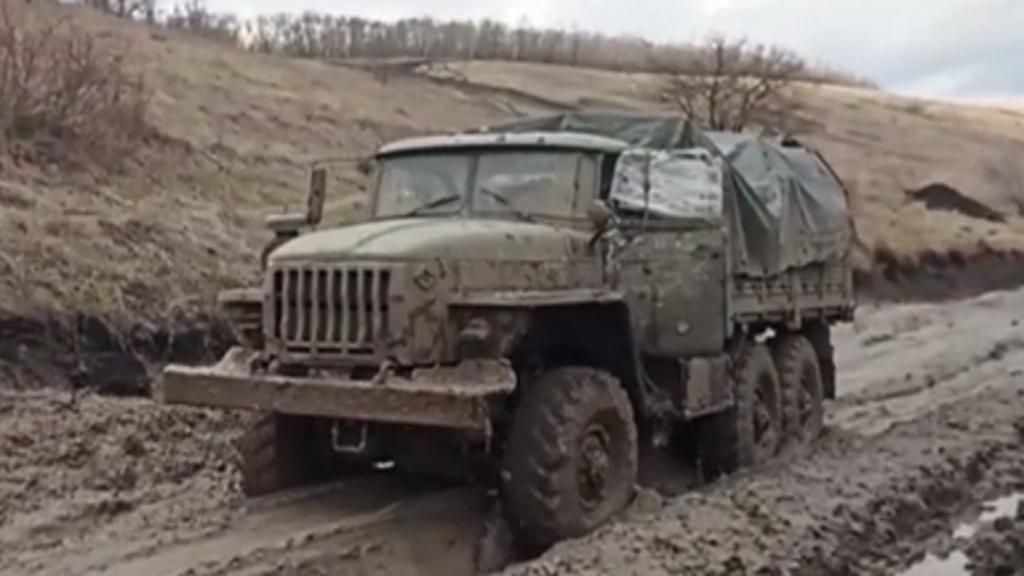TRUCK: (146, 101, 860, 553)
